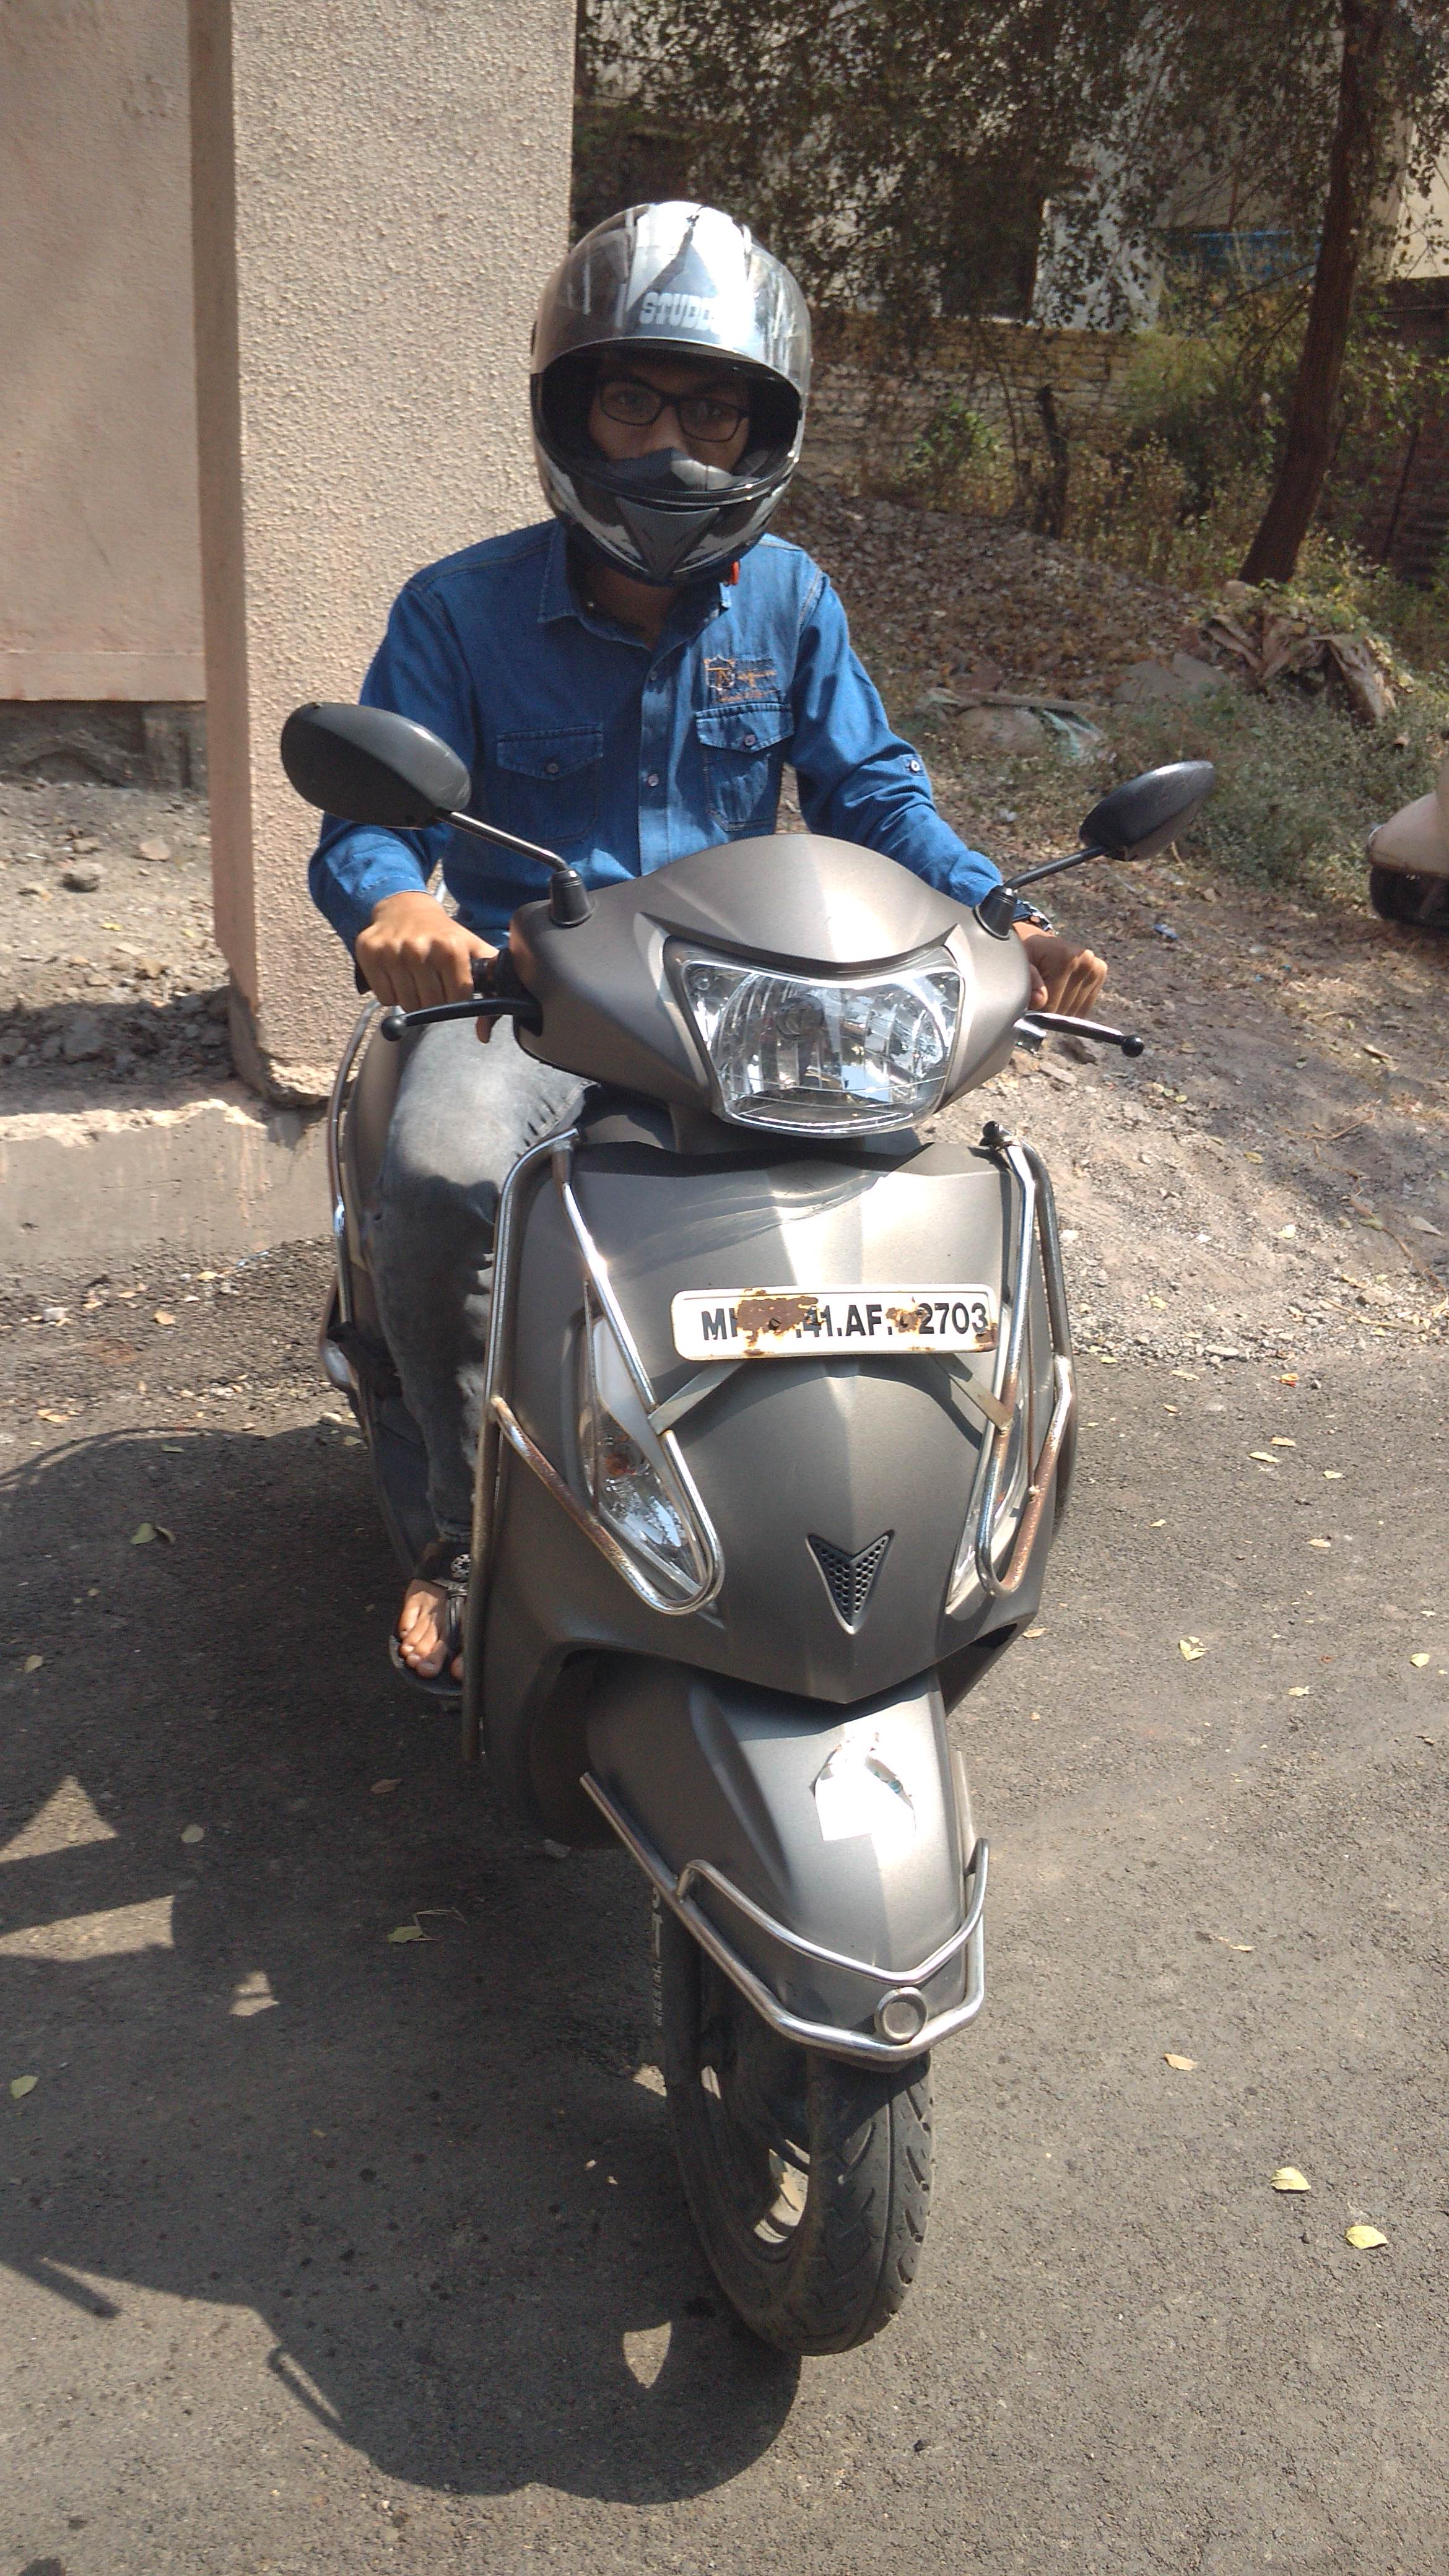helmet: (271, 161, 1116, 1916)
